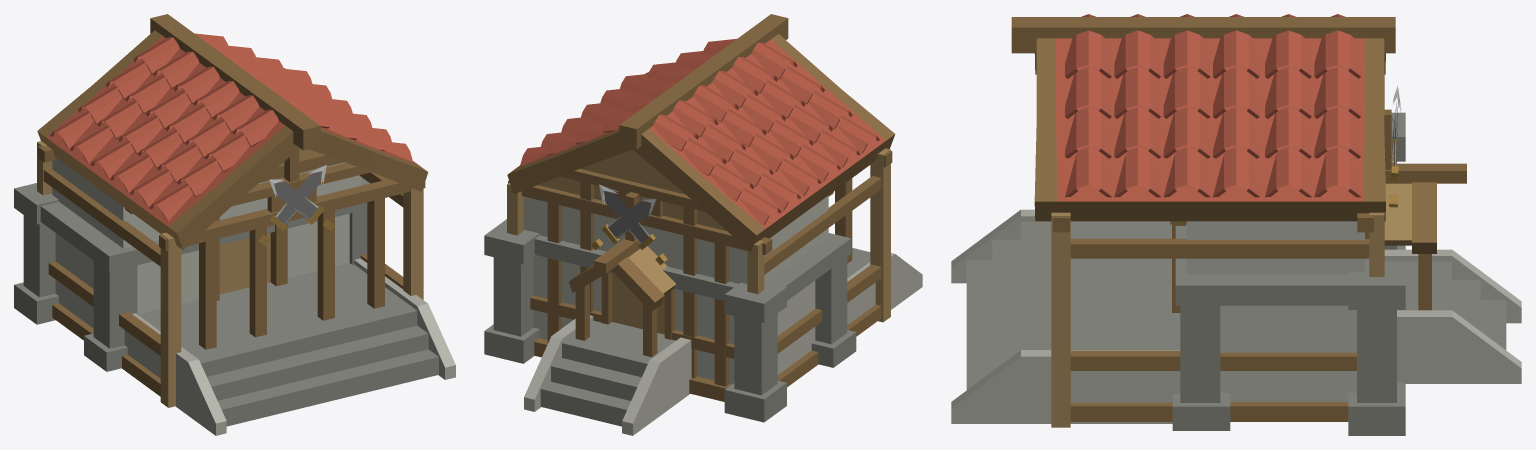
File: bld-barracks.glb
3 renders of one model, left to right at view 1: azimuth 30°, elevation 25°; view 2: azimuth 150°, elevation 25°; view 3: azimuth 270°, elevation 25°, orthographic. The views are drawn at different scales.
Visible parts, largest first — view 1: Barracks_SecondAge_Level1; view 2: Barracks_SecondAge_Level1; view 3: Barracks_SecondAge_Level1.
Part boxes in pixels (x1,y1,x2,y2): Barracks_SecondAge_Level1: (14, 14, 455, 435); Barracks_SecondAge_Level1: (484, 14, 922, 435); Barracks_SecondAge_Level1: (951, 14, 1521, 435).
Bounding box in the file's own units: 1.01 × 0.8931 × 1.41.
